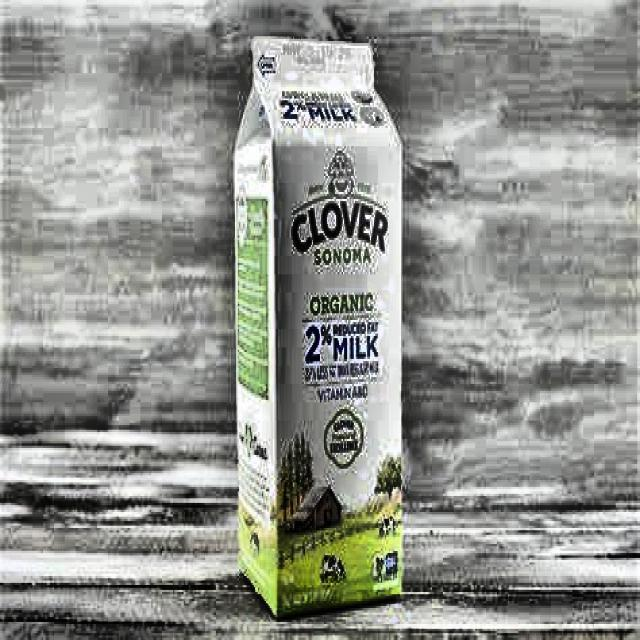cardboard: (232, 35, 404, 620)
